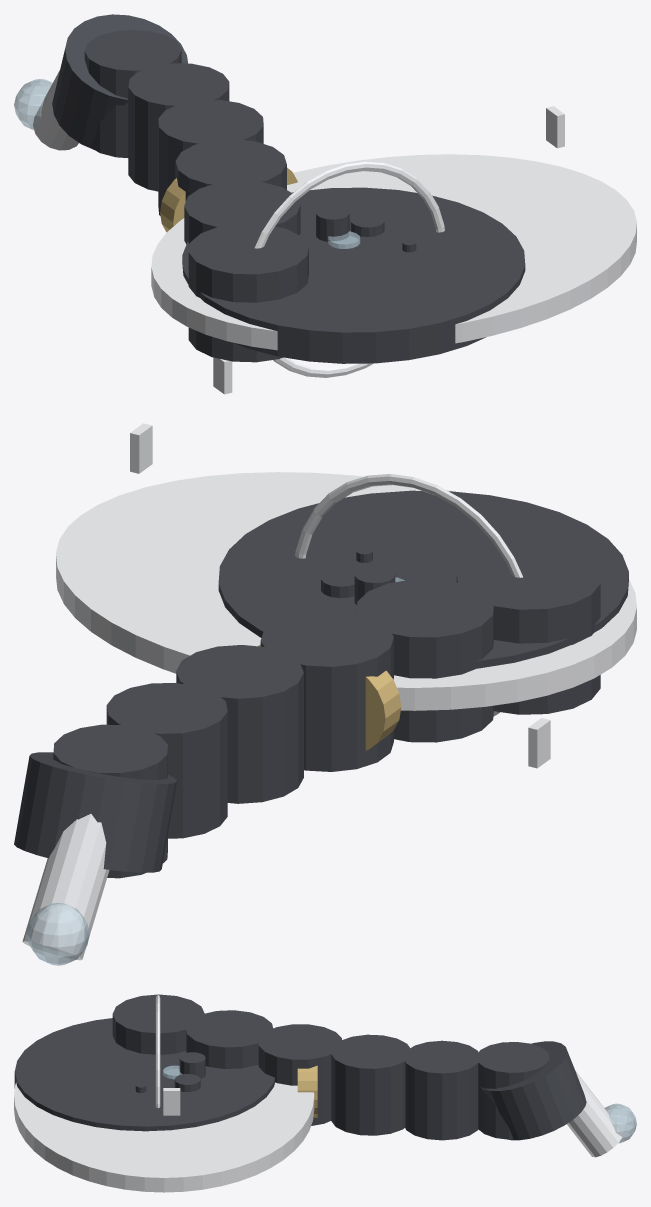
The model's file is prop_microscope.glb.
3 views of the same model, one above another, from view 1: azimuth 30°, elevation 25°; view 2: azimuth 150°, elevation 25°; view 3: azimuth 270°, elevation 25° (orthographic). The views are drawn at different scales.
Parts seen in each view (by area): view 1: Microscope_Body; view 2: Microscope_Body; view 3: Microscope_Body.
Part boxes in pixels (x1,y1,x2,y2): Microscope_Body: [14, 14, 636, 394]; Microscope_Body: [14, 423, 636, 965]; Microscope_Body: [14, 994, 636, 1192].
Size of the model in its own units: 5.07 by 2.3 by 8.09.
